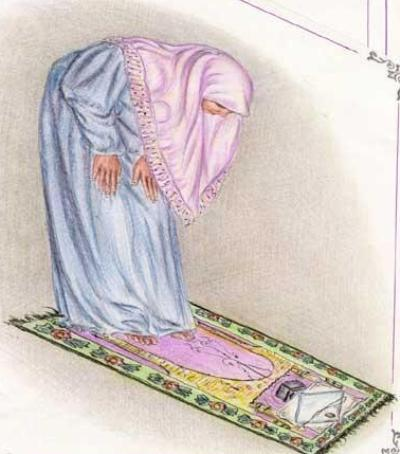ruku: (27, 16, 302, 415)
